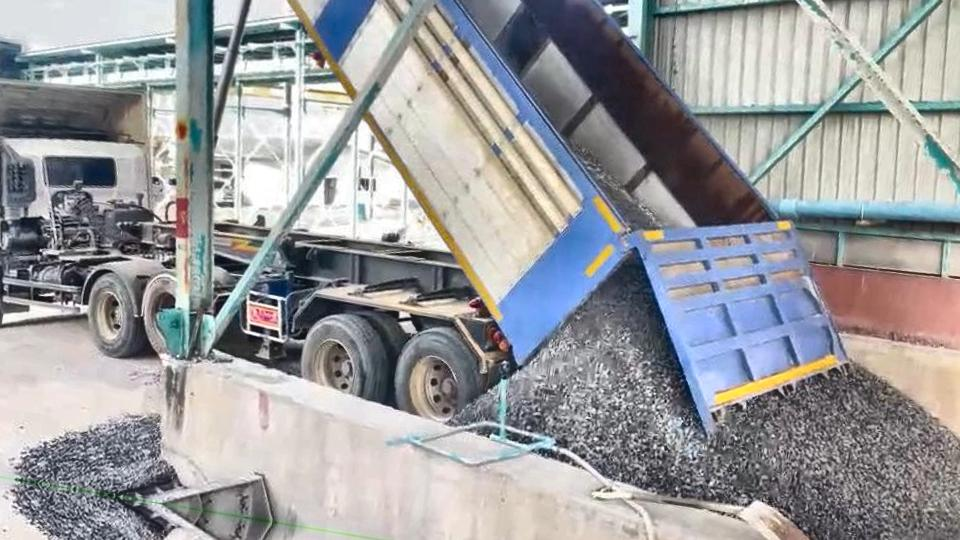gravel: (509, 257, 960, 540), (13, 415, 177, 494), (455, 389, 497, 422)
